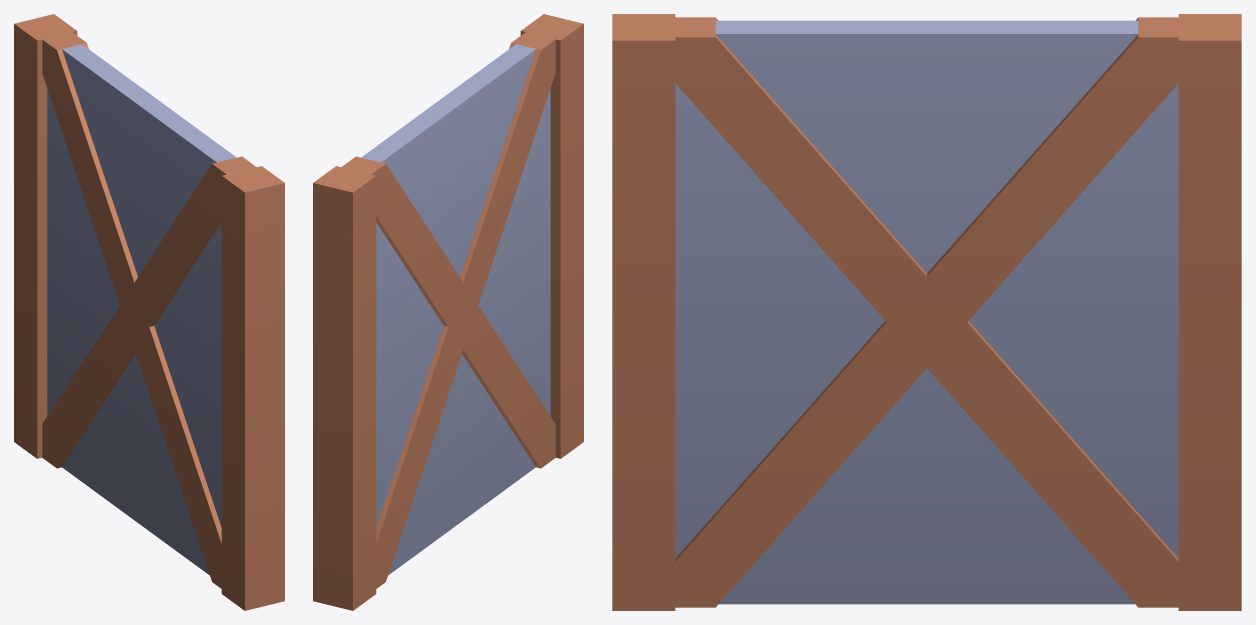
Rendered from k-timber-wall.glb.
3 views of the same model, side by side, from view 1: azimuth 30°, elevation 25°; view 2: azimuth 150°, elevation 25°; view 3: azimuth 270°, elevation 25° (orthographic). The views are drawn at different scales.
Visible parts, largest first — view 1: wall-detail-cross; view 2: wall-detail-cross; view 3: wall-detail-cross.
Boxes of the visible parts, x1,y1,x2,y2 form: wall-detail-cross: (14, 14, 284, 610); wall-detail-cross: (313, 14, 583, 610); wall-detail-cross: (612, 14, 1241, 610).
Size of the model in its own units: 0.1 by 1 by 1.
Materials: 1 (1 with a texture image).
